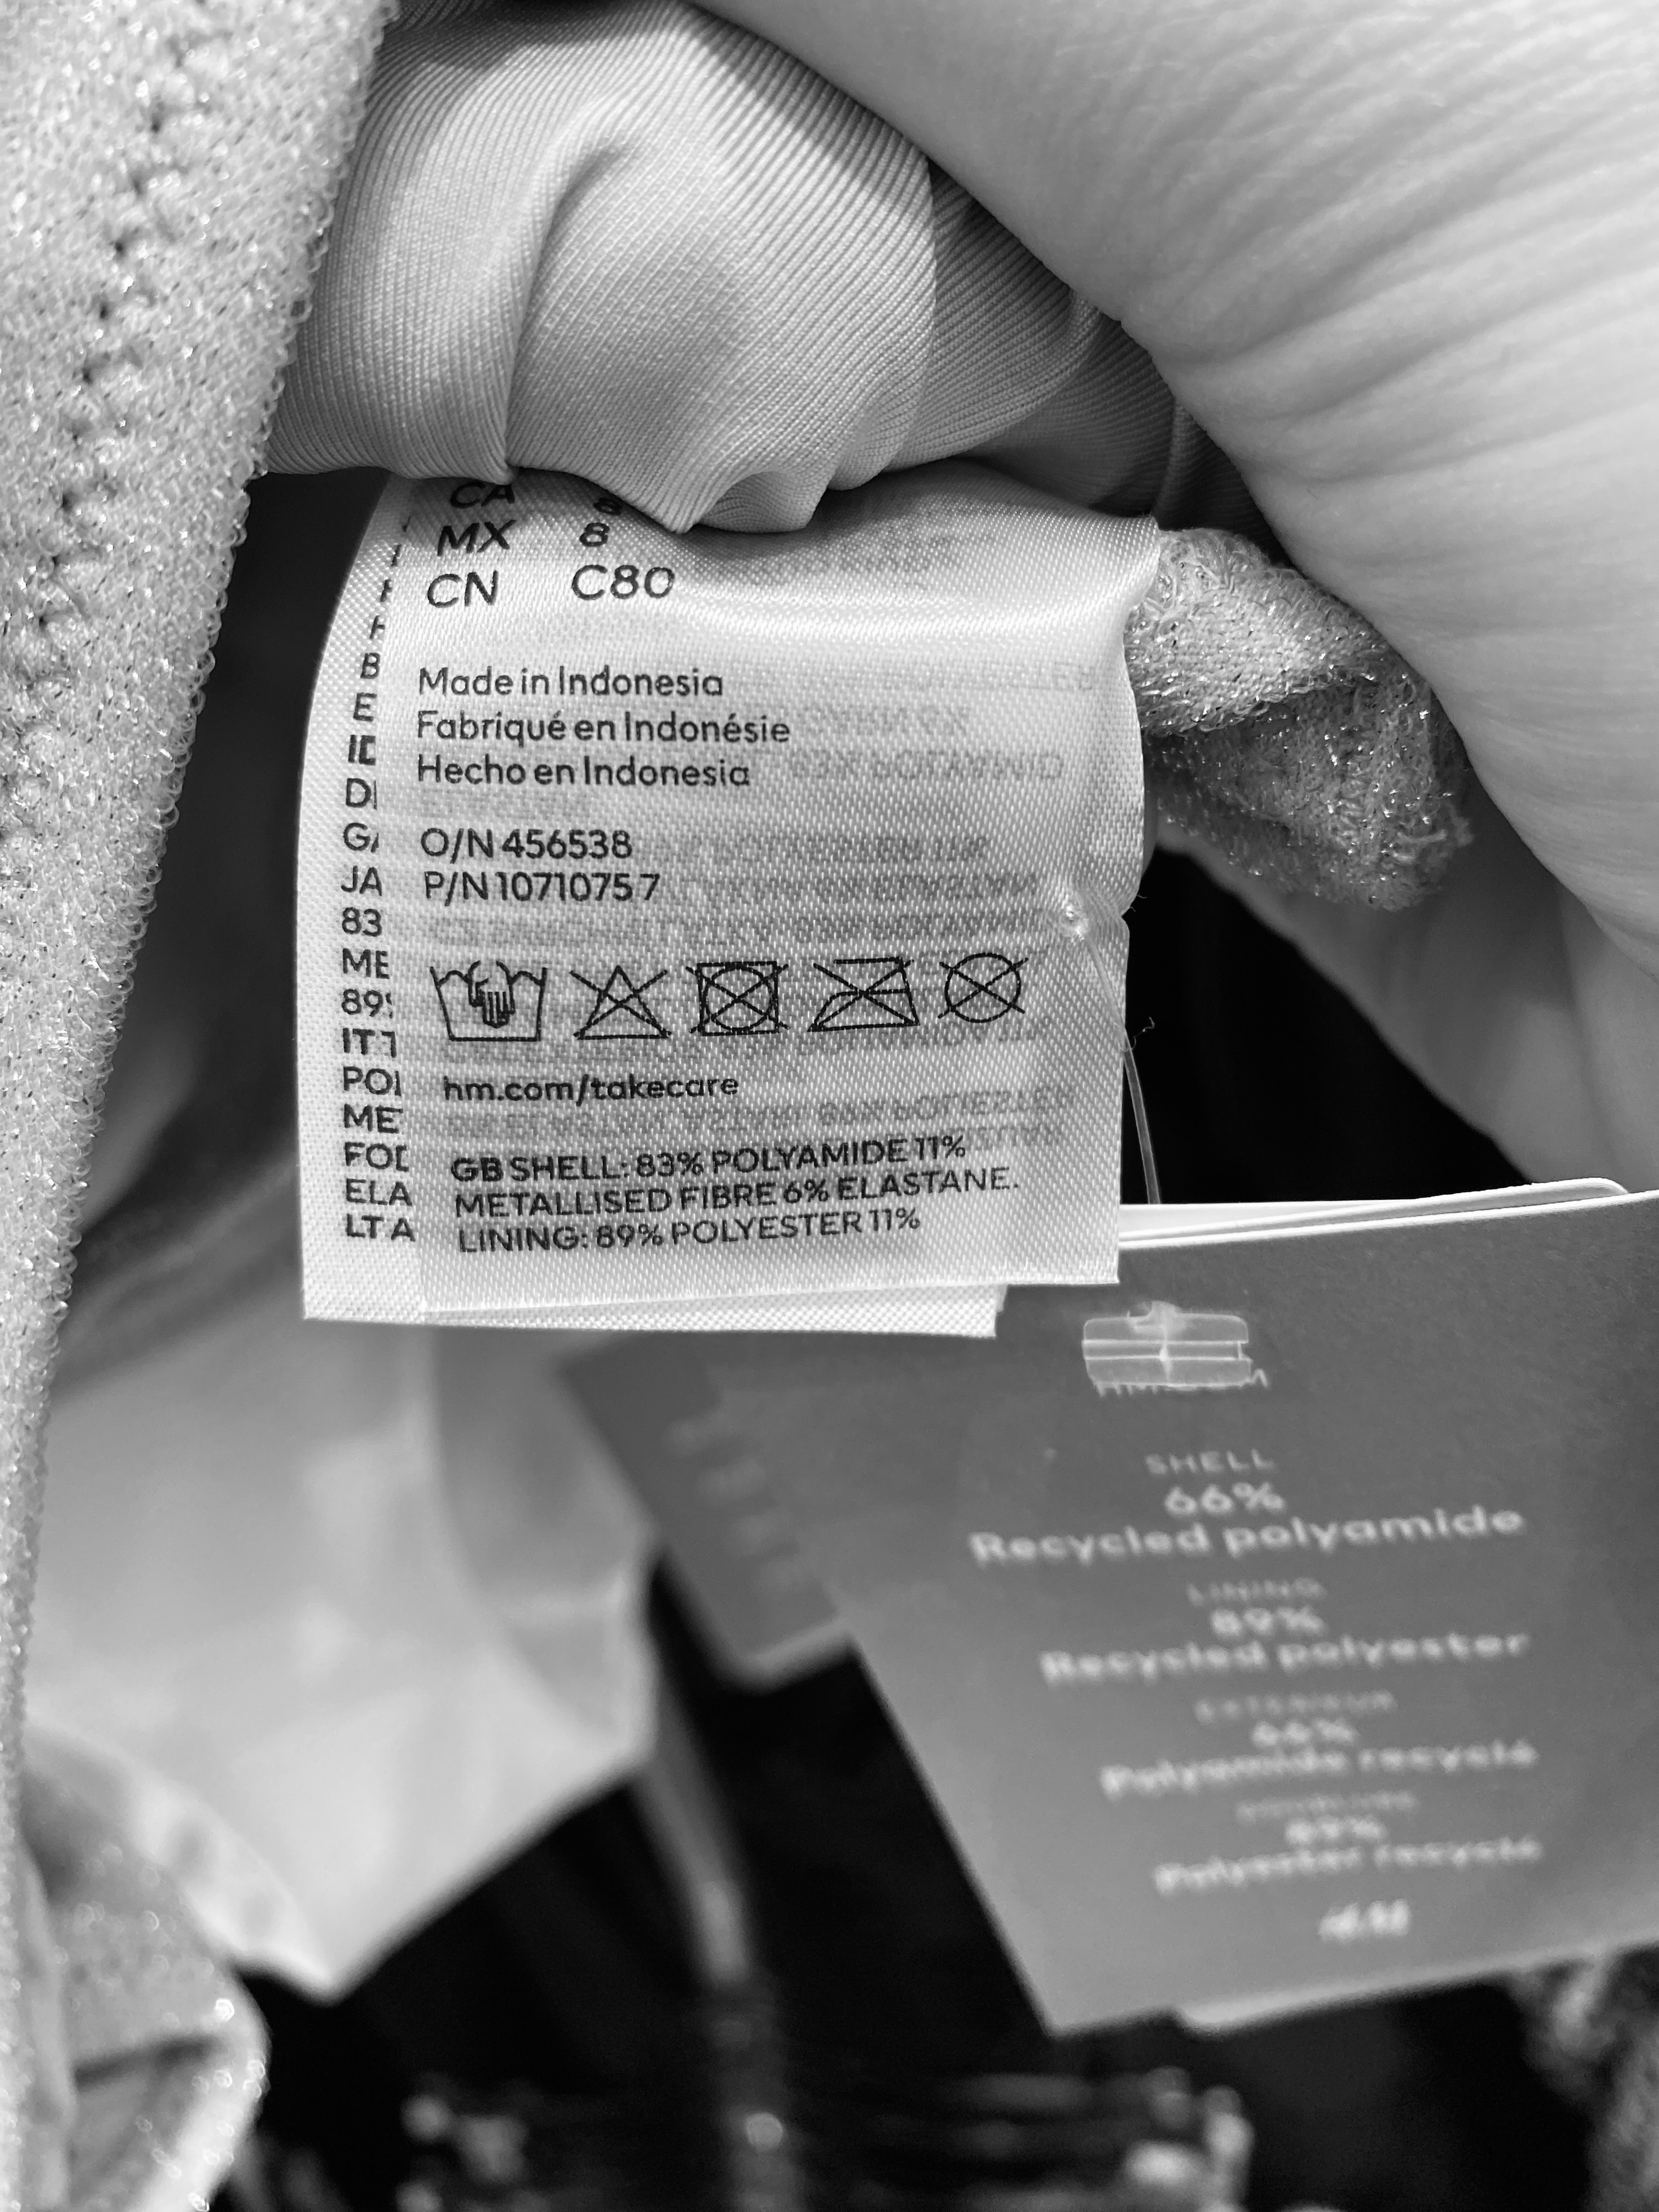icon: (415, 954, 556, 1047), (807, 946, 927, 1036), (681, 954, 800, 1045), (565, 956, 674, 1050), (932, 946, 1035, 1024)
